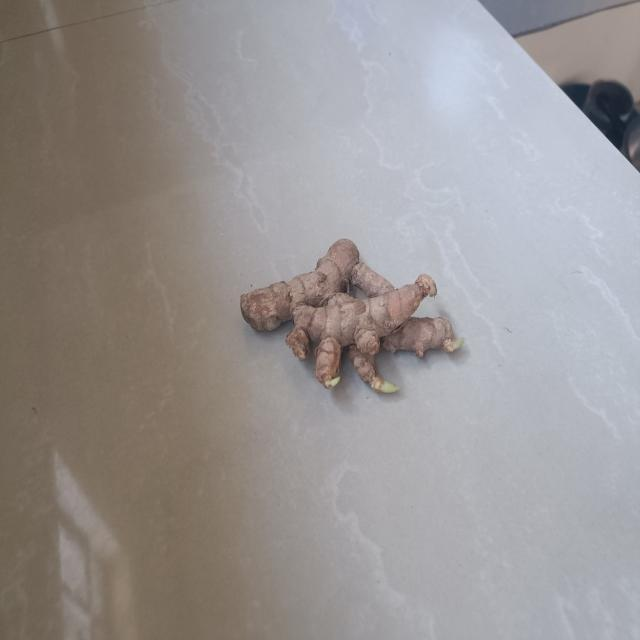ginger: (236, 232, 468, 402)
